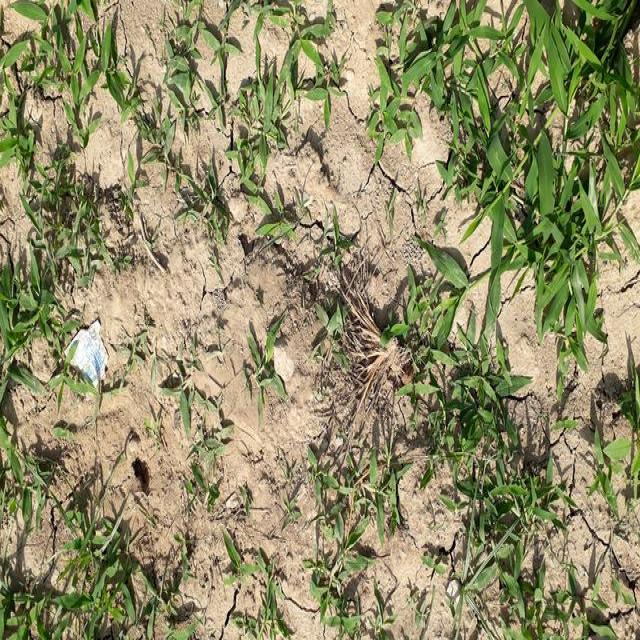weed: (366, 5, 640, 351), (423, 367, 583, 640), (3, 493, 176, 640), (0, 234, 76, 453), (0, 0, 109, 148)
